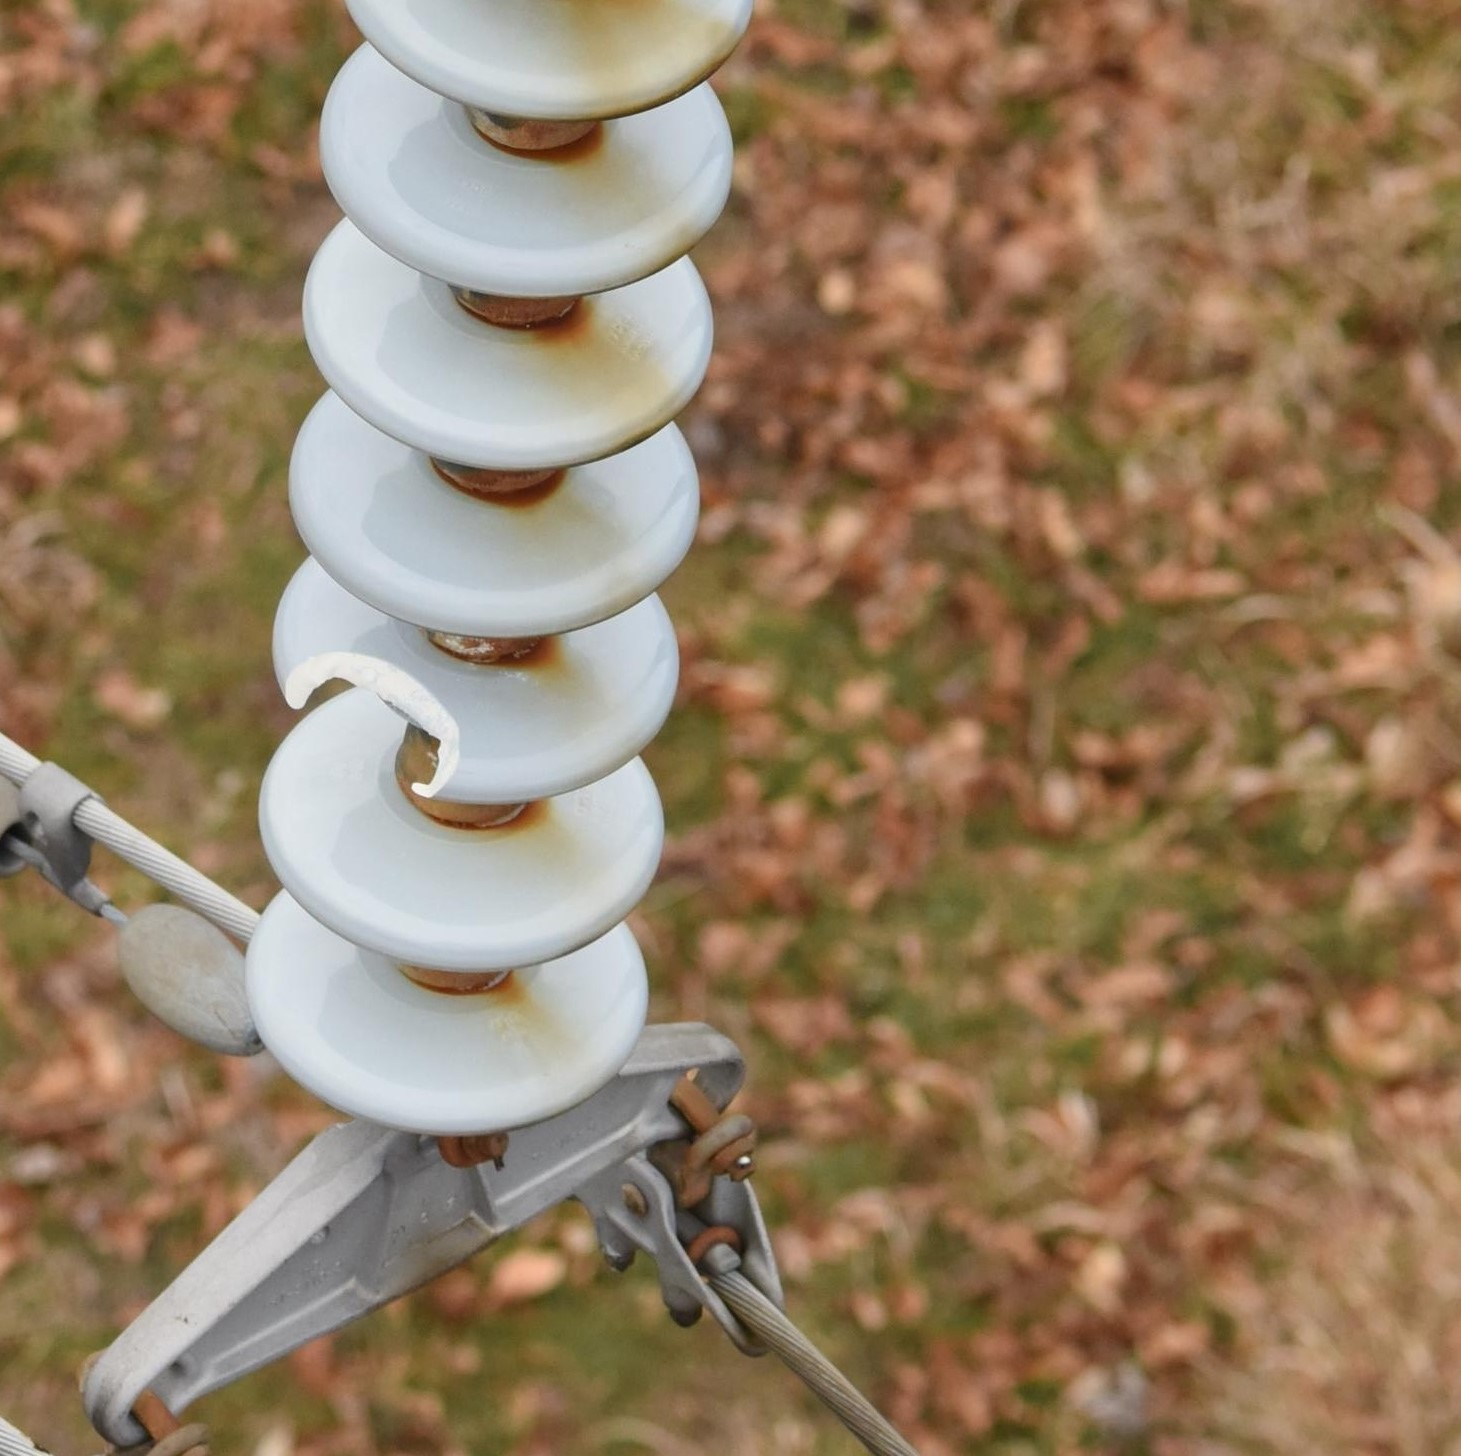insulator breakage: (223, 567, 699, 823)
